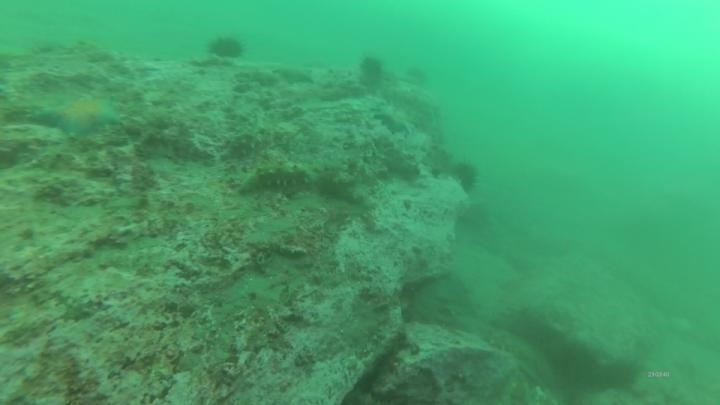echinus: (596, 356, 641, 394), (206, 32, 246, 63), (457, 200, 493, 234), (450, 159, 482, 195), (357, 53, 387, 87), (402, 64, 431, 88)
holothurian: (233, 160, 315, 197)
starfish: (28, 93, 124, 140), (372, 105, 417, 138), (272, 63, 316, 87)
